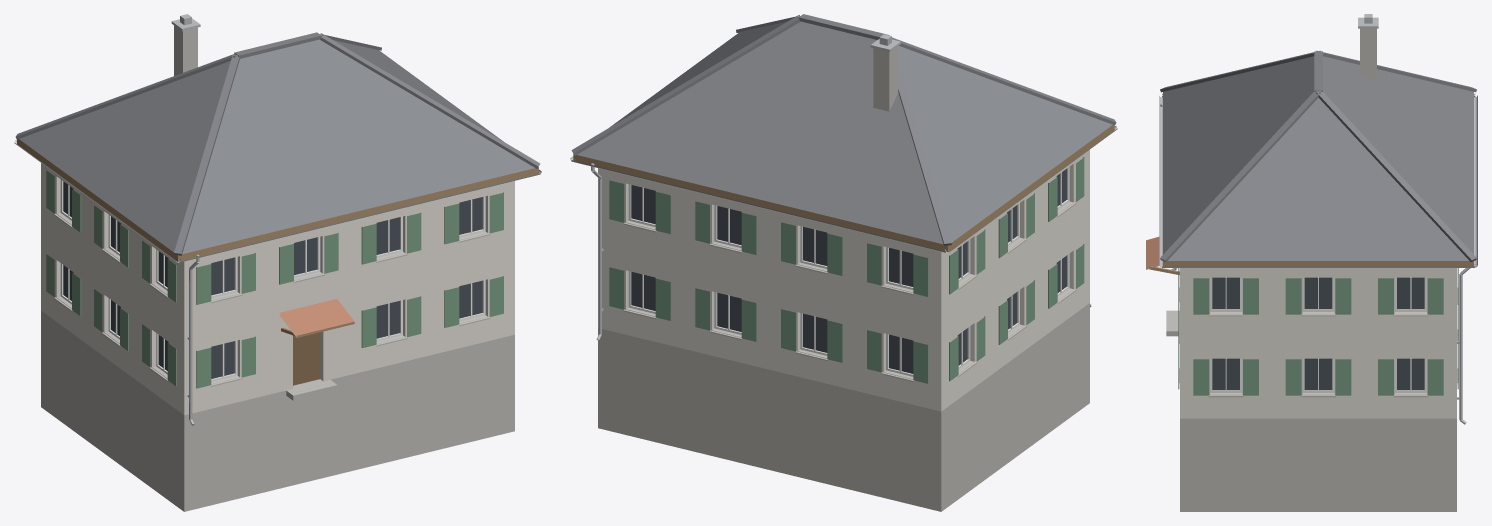
The model's file is french_house_2_m.glb.
The picture shows the model from 3 angles, left to right: view 1: azimuth 30°, elevation 25°; view 2: azimuth 150°, elevation 25°; view 3: azimuth 270°, elevation 25°; orthographic projection. The views are drawn at different scales.
Visible parts, largest first — view 1: french_house_2_m; view 2: french_house_2_m; view 3: french_house_2_m.
Boxes of the visible parts, <box> form: french_house_2_m: <box>14,14,541,511</box>; french_house_2_m: <box>570,14,1117,511</box>; french_house_2_m: <box>1146,14,1477,511</box>.
Bounding box in the file's own units: 13.3 × 13.87 × 10.78.
